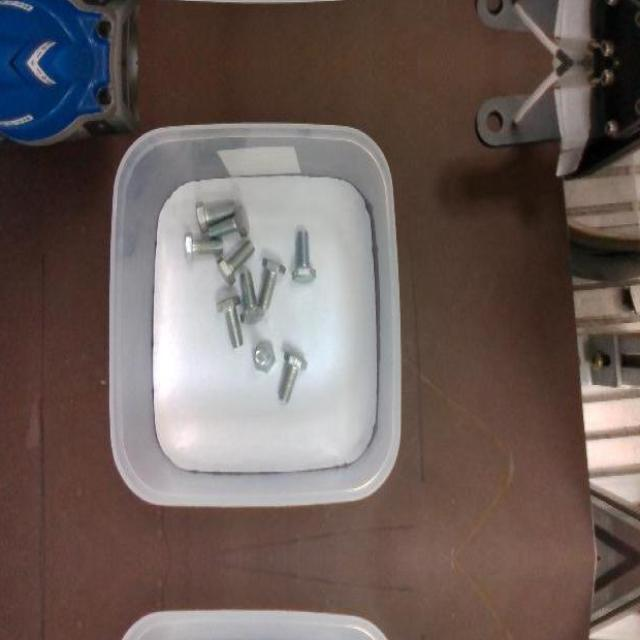screw: (217, 240, 256, 286), (208, 203, 250, 239), (216, 295, 243, 349), (280, 351, 308, 403), (259, 257, 287, 309), (292, 229, 316, 283), (195, 202, 235, 234), (185, 231, 224, 263), (241, 271, 264, 324), (252, 341, 275, 371)
